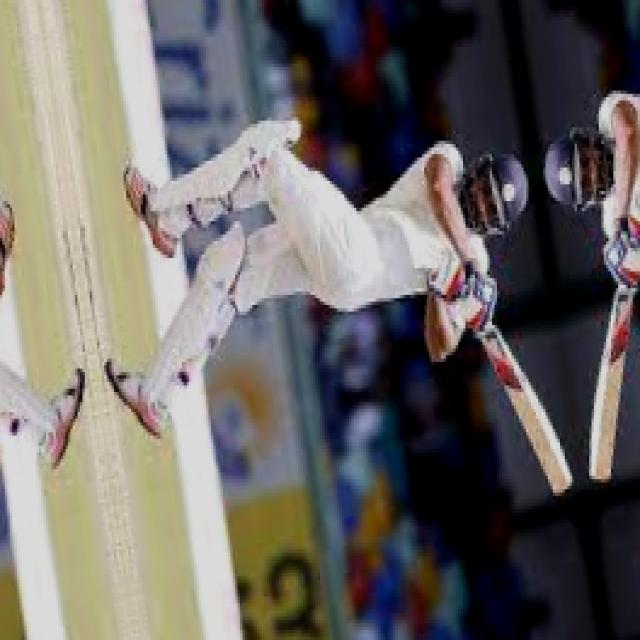toe: (543, 466, 578, 498)
